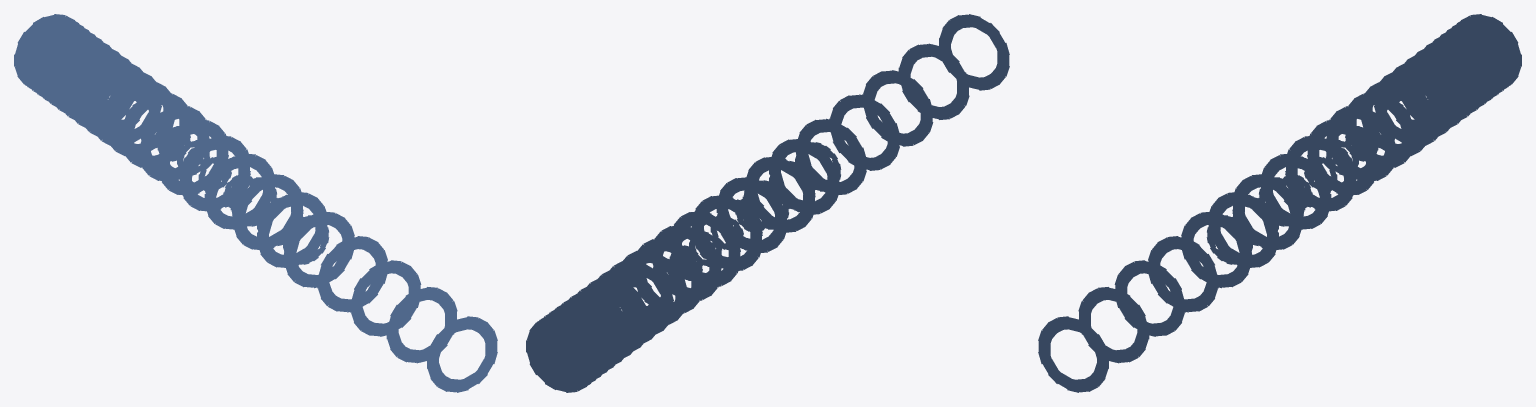
Rendered from InnerPixels_PEC.glb.
3 renders of one model, left to right at view 1: azimuth 30°, elevation 25°; view 2: azimuth 150°, elevation 25°; view 3: azimuth 330°, elevation 25°, orthographic.
Parts seen in each view (by area): view 1: InnerPixels__PositiveEndcap_sensitives_l59.002, InnerPixels__PositiveEndcap_sensitives_l39.002, InnerPixels__PositiveEndcap_sensitives_l53.002, InnerPixels__PositiveEndcap_sensitives_l35.002, InnerPixels__PositiveEndcap_sensitives_l51.002, InnerPixels__PositiveEndcap_sensitives_l55.002, InnerPixels__PositiveEndcap_sensitives_l57.002, InnerPixels__PositiveEndcap_sensitives_l47.002, InnerPixels__PositiveEndcap_sensitives_l31.002, InnerPixels__PositiveEndcap_sensitives_l25.002, InnerPixels__PositiveEndcap_sensitives_l43.002, InnerPixels__PositiveEndcap_sensitives_l27.002 (+14 smaller); view 2: InnerPixels__PositiveEndcap_sensitives_l1.002, InnerPixels__PositiveEndcap_sensitives_l53.002, InnerPixels__PositiveEndcap_sensitives_l55.002, InnerPixels__PositiveEndcap_sensitives_l57.002, InnerPixels__PositiveEndcap_sensitives_l59.002, InnerPixels__PositiveEndcap_sensitives_l39.002, InnerPixels__PositiveEndcap_sensitives_l51.002, InnerPixels__PositiveEndcap_sensitives_l35.002, InnerPixels__PositiveEndcap_sensitives_l47.002, InnerPixels__PositiveEndcap_sensitives_l27.002, InnerPixels__PositiveEndcap_sensitives_l43.002, InnerPixels__PositiveEndcap_sensitives_l31.002 (+12 smaller); view 3: InnerPixels__PositiveEndcap_sensitives_l59.002, InnerPixels__PositiveEndcap_sensitives_l39.002, InnerPixels__PositiveEndcap_sensitives_l53.002, InnerPixels__PositiveEndcap_sensitives_l35.002, InnerPixels__PositiveEndcap_sensitives_l51.002, InnerPixels__PositiveEndcap_sensitives_l55.002, InnerPixels__PositiveEndcap_sensitives_l57.002, InnerPixels__PositiveEndcap_sensitives_l47.002, InnerPixels__PositiveEndcap_sensitives_l31.002, InnerPixels__PositiveEndcap_sensitives_l25.002, InnerPixels__PositiveEndcap_sensitives_l43.002, InnerPixels__PositiveEndcap_sensitives_l27.002 (+14 smaller).
Part boxes in pixels (left/top/right/bottom): InnerPixels__PositiveEndcap_sensitives_l59.002: left=427, top=316, right=497, bottom=392; InnerPixels__PositiveEndcap_sensitives_l39.002: left=204, top=153, right=273, bottom=229; InnerPixels__PositiveEndcap_sensitives_l53.002: left=317, top=236, right=387, bottom=312; InnerPixels__PositiveEndcap_sensitives_l35.002: left=180, top=135, right=250, bottom=211; InnerPixels__PositiveEndcap_sensitives_l51.002: left=284, top=211, right=354, bottom=288; InnerPixels__PositiveEndcap_sensitives_l55.002: left=350, top=260, right=421, bottom=336; InnerPixels__PositiveEndcap_sensitives_l57.002: left=386, top=287, right=457, bottom=363; InnerPixels__PositiveEndcap_sensitives_l47.002: left=257, top=192, right=327, bottom=267; InnerPixels__PositiveEndcap_sensitives_l31.002: left=158, top=119, right=228, bottom=195; InnerPixels__PositiveEndcap_sensitives_l25.002: left=121, top=92, right=189, bottom=167; InnerPixels__PositiveEndcap_sensitives_l43.002: left=233, top=174, right=303, bottom=249; InnerPixels__PositiveEndcap_sensitives_l27.002: left=139, top=105, right=209, bottom=180; InnerPixels__PositiveEndcap_sensitives_l1.002: left=526, top=316, right=596, bottom=392; InnerPixels__PositiveEndcap_sensitives_l53.002: left=829, top=94, right=899, bottom=170; InnerPixels__PositiveEndcap_sensitives_l55.002: left=862, top=70, right=933, bottom=146; InnerPixels__PositiveEndcap_sensitives_l57.002: left=898, top=43, right=969, bottom=119; InnerPixels__PositiveEndcap_sensitives_l59.002: left=939, top=14, right=1009, bottom=90; InnerPixels__PositiveEndcap_sensitives_l39.002: left=716, top=177, right=787, bottom=252; InnerPixels__PositiveEndcap_sensitives_l51.002: left=796, top=118, right=866, bottom=194; InnerPixels__PositiveEndcap_sensitives_l35.002: left=692, top=195, right=762, bottom=270; InnerPixels__PositiveEndcap_sensitives_l47.002: left=769, top=138, right=839, bottom=214; InnerPixels__PositiveEndcap_sensitives_l27.002: left=653, top=225, right=721, bottom=300; InnerPixels__PositiveEndcap_sensitives_l43.002: left=746, top=156, right=815, bottom=232; InnerPixels__PositiveEndcap_sensitives_l31.002: left=673, top=211, right=740, bottom=286; InnerPixels__PositiveEndcap_sensitives_l59.002: left=1038, top=316, right=1108, bottom=392; InnerPixels__PositiveEndcap_sensitives_l39.002: left=1262, top=153, right=1331, bottom=229; InnerPixels__PositiveEndcap_sensitives_l53.002: left=1148, top=236, right=1218, bottom=312; InnerPixels__PositiveEndcap_sensitives_l35.002: left=1285, top=135, right=1355, bottom=211; InnerPixels__PositiveEndcap_sensitives_l51.002: left=1181, top=211, right=1251, bottom=288; InnerPixels__PositiveEndcap_sensitives_l55.002: left=1114, top=260, right=1185, bottom=336; InnerPixels__PositiveEndcap_sensitives_l57.002: left=1078, top=287, right=1149, bottom=363; InnerPixels__PositiveEndcap_sensitives_l47.002: left=1208, top=192, right=1278, bottom=267; InnerPixels__PositiveEndcap_sensitives_l31.002: left=1307, top=119, right=1377, bottom=195; InnerPixels__PositiveEndcap_sensitives_l25.002: left=1346, top=92, right=1414, bottom=167; InnerPixels__PositiveEndcap_sensitives_l43.002: left=1232, top=174, right=1302, bottom=249; InnerPixels__PositiveEndcap_sensitives_l27.002: left=1326, top=105, right=1396, bottom=180.
Bounding box in the file's own units: 0.2425 × 0.2425 × 2.47.
